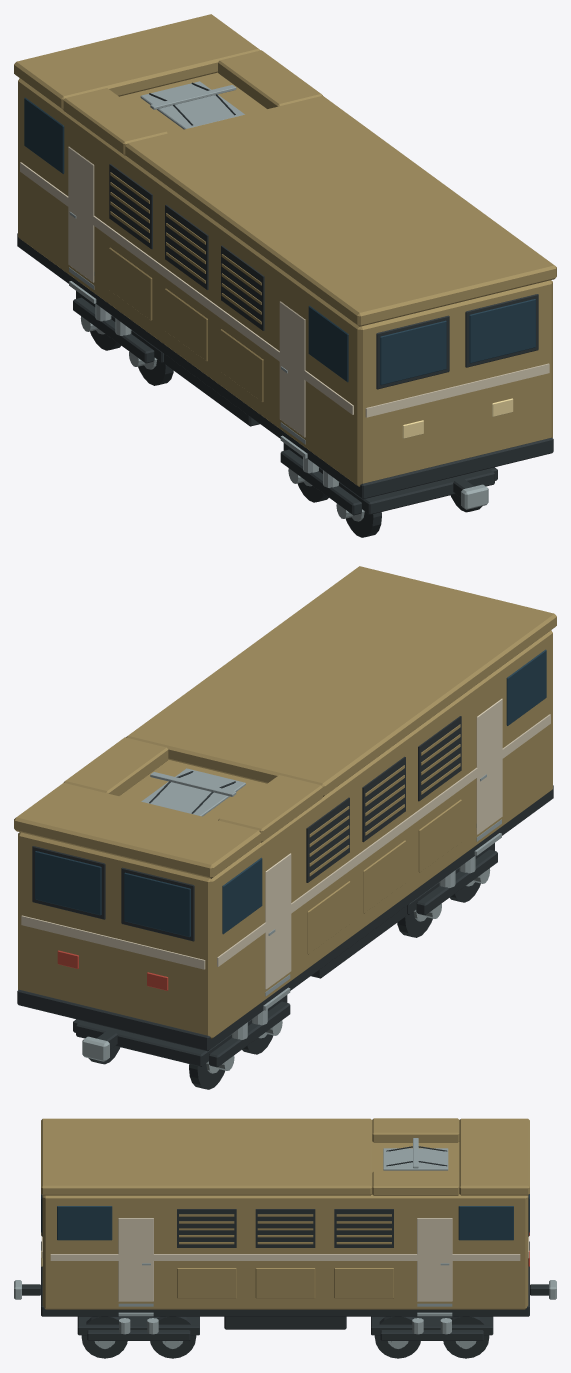
Rendered from train-loco-freight-01.glb.
The picture shows the model from 3 angles, top to bottom: view 1: azimuth 30°, elevation 25°; view 2: azimuth 150°, elevation 25°; view 3: azimuth 270°, elevation 25°; orthographic projection. The views are drawn at different scales.
Parts seen in each view (by area): view 1: ContinuousBoxBody, RoofForward, RoofRear, DarkUnderframe, SideWaistBand, RoofRecessRim, RoofRecessRim.001, FrontWindscreen, FrontWindscreen.001, CabAccessDoor.001, CabAccessDoor, RecessedPantographBase (+16 smaller); view 2: ContinuousBoxBody, RoofForward, RoofRear, DarkUnderframe, RoofRecessRim, RoofRecessRim.001, SideWaistBand, RearWindscreen, RearWindscreen.001, CabAccessDoor.001, CabAccessDoor, RecessedPantographBase (+16 smaller); view 3: ContinuousBoxBody, RoofForward, RoofRear, DarkUnderframe, SideWaistBand.001, CabAccessDoor.003, CabAccessDoor.002, RoofRecessRim.001, RoofRecessRim, MachineLouvreRecess.004, CabSideGlass.002, CabSideGlass.003 (+15 smaller).
Part boxes in pixels (box(x1,y1,x2,y2)): ContinuousBoxBody: box(18, 72, 552, 486); RoofForward: box(125, 95, 556, 326); RoofRear: box(14, 14, 260, 109); DarkUnderframe: box(17, 233, 553, 499); SideWaistBand: box(20, 162, 353, 414); RoofRecessRim: box(63, 88, 167, 155); RoofRecessRim.001: box(218, 50, 322, 108); FrontWindscreen: box(380, 320, 446, 385); FrontWindscreen.001: box(469, 299, 535, 363); CabAccessDoor.001: box(68, 146, 94, 282); CabAccessDoor: box(279, 301, 305, 437); RecessedPantographBase: box(140, 81, 244, 129); ContinuousBoxBody: box(18, 630, 552, 1038); RoofForward: box(126, 566, 556, 796); RoofRear: box(14, 783, 260, 878); DarkUnderframe: box(17, 785, 553, 1051); RoofRecessRim: box(218, 775, 322, 842); RoofRecessRim.001: box(63, 737, 168, 795); SideWaistBand: box(217, 714, 550, 966); RearWindscreen: box(124, 872, 190, 937); RearWindscreen.001: box(35, 851, 101, 915); CabAccessDoor.001: box(265, 853, 291, 989); CabAccessDoor: box(476, 698, 502, 834); RecessedPantographBase: box(141, 768, 245, 816); ContinuousBoxBody: box(42, 1141, 528, 1309); RoofForward: box(41, 1118, 372, 1195); RoofRear: box(459, 1118, 529, 1195); DarkUnderframe: box(41, 1241, 529, 1316); SideWaistBand.001: box(50, 1254, 520, 1260); CabAccessDoor.003: box(417, 1218, 452, 1301); CabAccessDoor.002: box(118, 1218, 153, 1301); RoofRecessRim.001: box(372, 1171, 459, 1195); RoofRecessRim: box(372, 1118, 459, 1142); MachineLouvreRecess.004: box(255, 1209, 315, 1247); CabSideGlass.002: box(57, 1206, 112, 1240); CabSideGlass.003: box(458, 1206, 513, 1240).
Size of the model in its own units: 3 by 3.8 by 10.
